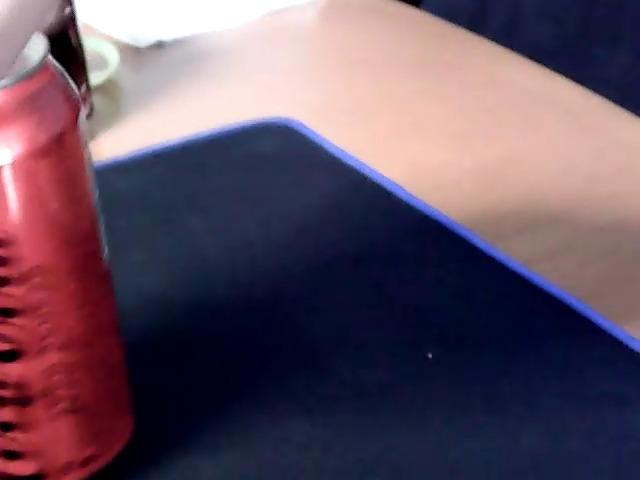coke: (0, 7, 135, 475)
